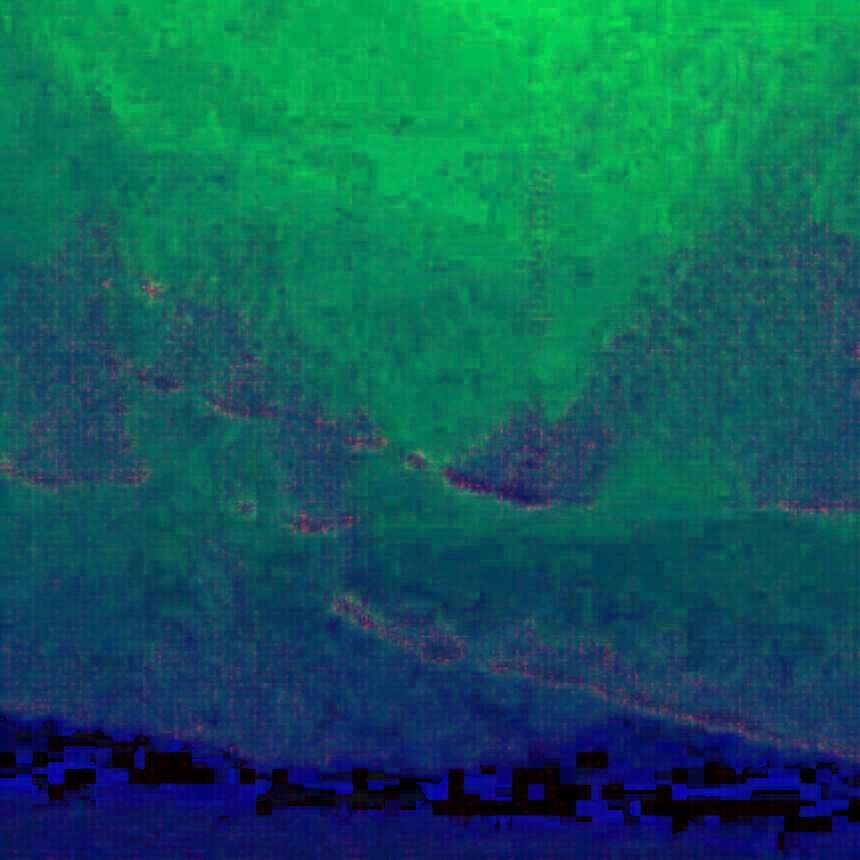rip_current: (254, 195, 552, 656)
